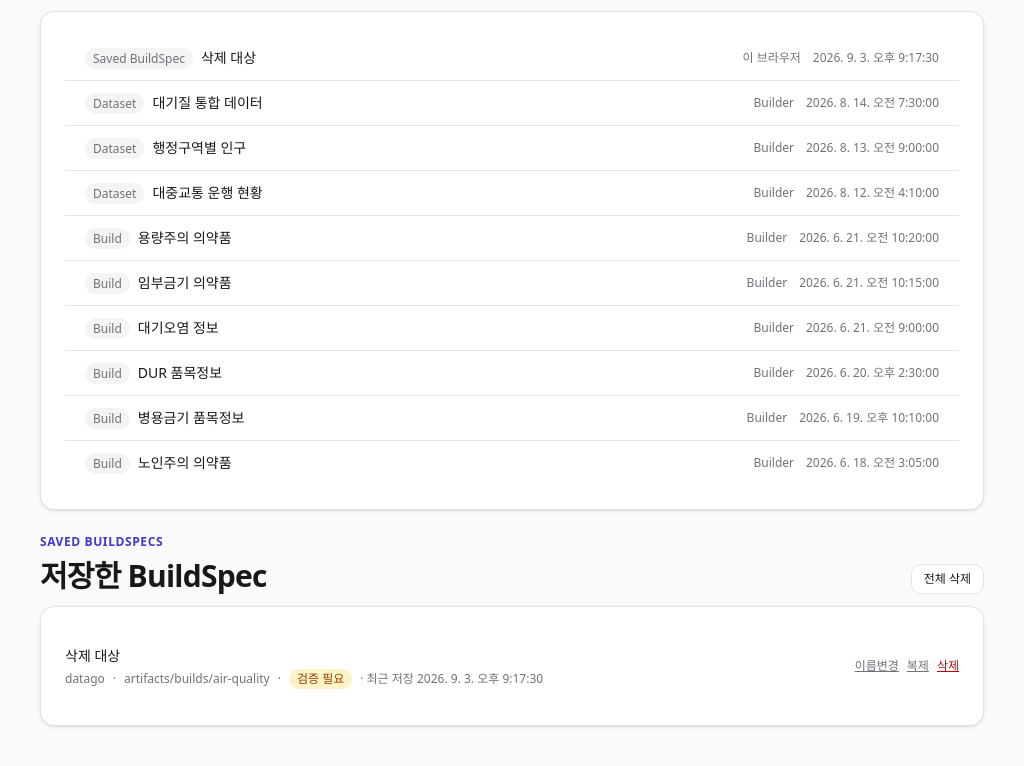
Scenario: Saved BuildSpecs › deletes a saved spec after confirmation
The width and height of the screenshot is (1024, 766).
(page scrolled)
Click the button "삭제".
click(948, 666)  # box [937,658,959,674]
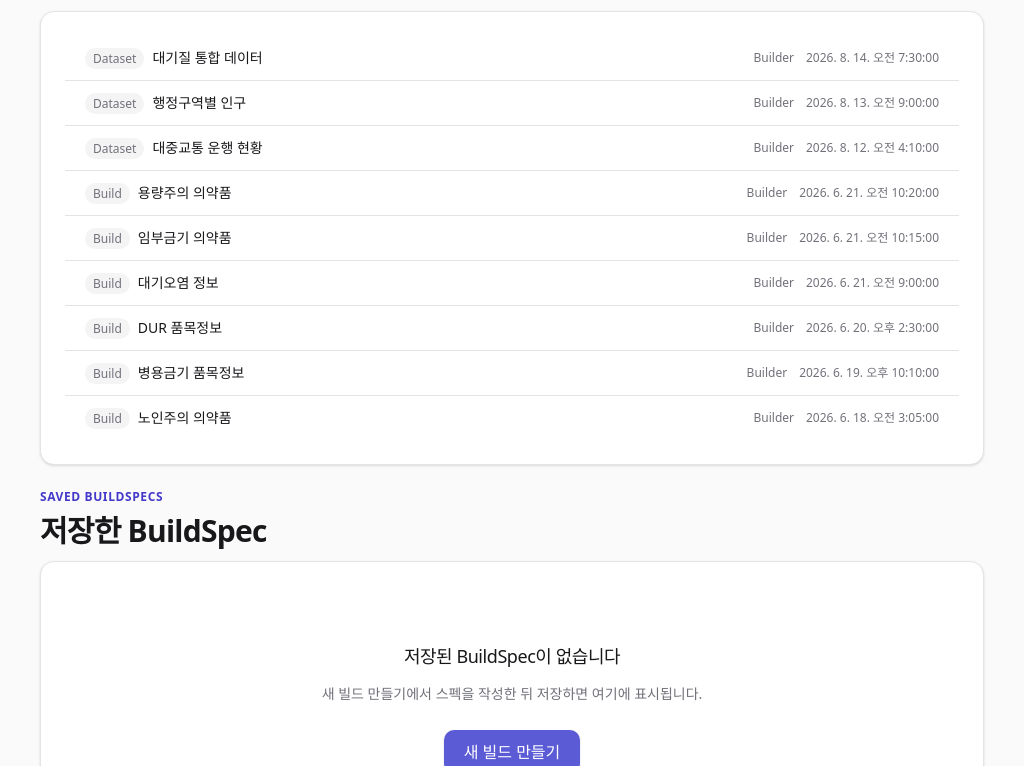
Expected: the button "삭제 대상" is gone
